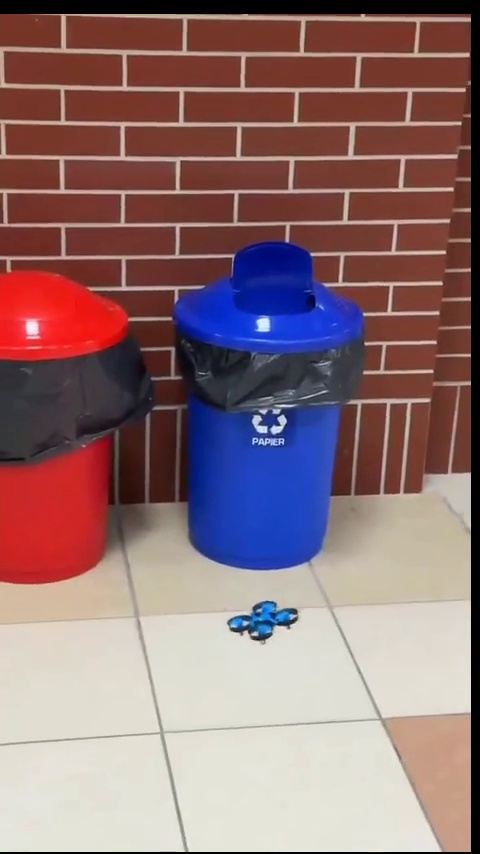drone: (232, 601, 299, 649)
